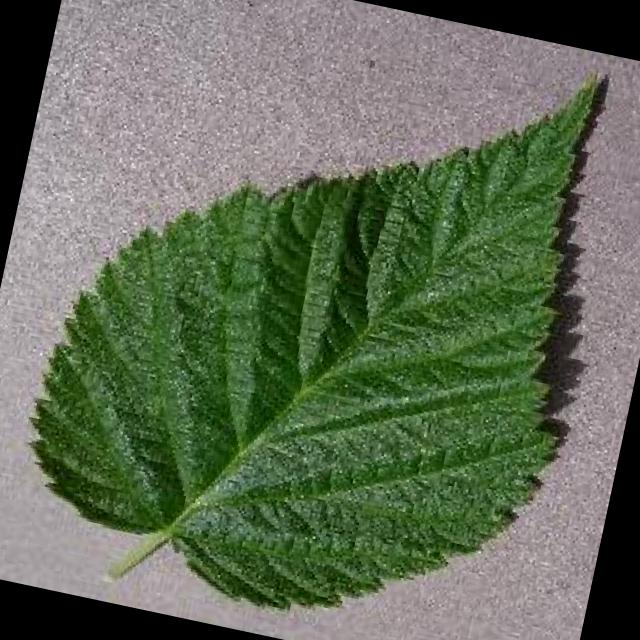healthy: (33, 79, 595, 606)
